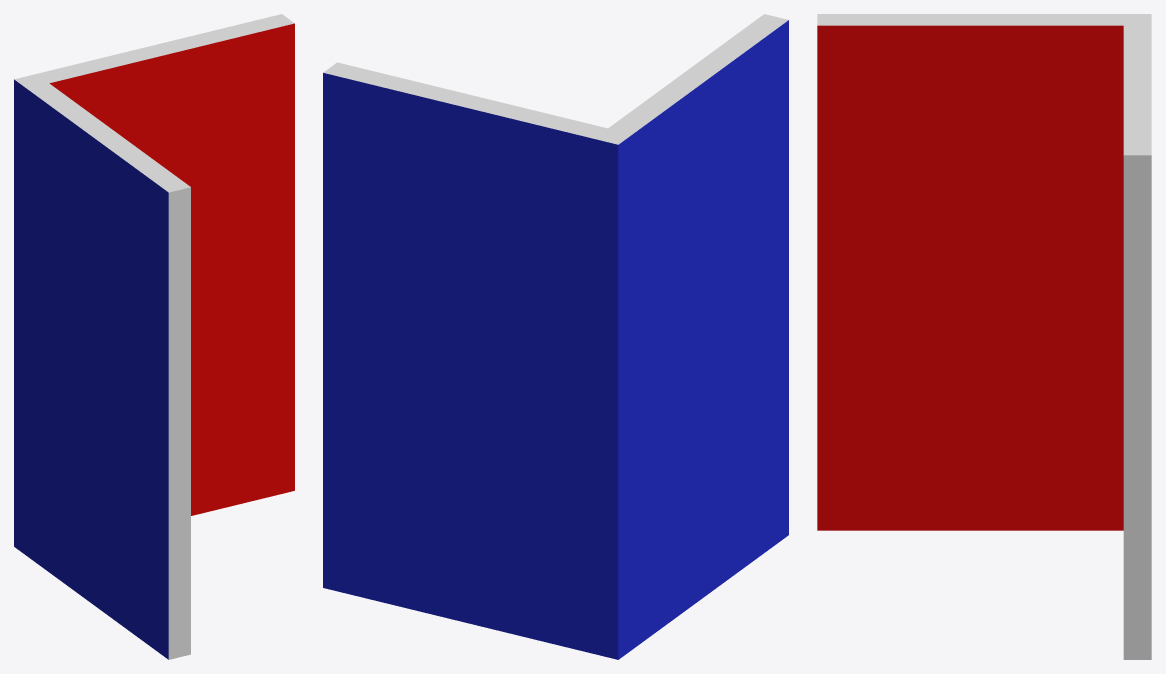
The model's file is Mesh_wall_corner_corridor.fbx.
The picture shows the model from 3 angles, left to right: view 1: azimuth 30°, elevation 25°; view 2: azimuth 150°, elevation 25°; view 3: azimuth 270°, elevation 25°; orthographic projection. The views are drawn at different scales.
Parts seen in each view (by area): view 1: mesh_wall_corner; view 2: mesh_wall_corner; view 3: mesh_wall_corner.
Part boxes in pixels (bbox=[...]): mesh_wall_corner: bbox=[14, 14, 294, 659]; mesh_wall_corner: bbox=[323, 14, 788, 659]; mesh_wall_corner: bbox=[817, 14, 1151, 659].
Bounding box in the file's own units: 1.95 × 3.25 × 1.95.
